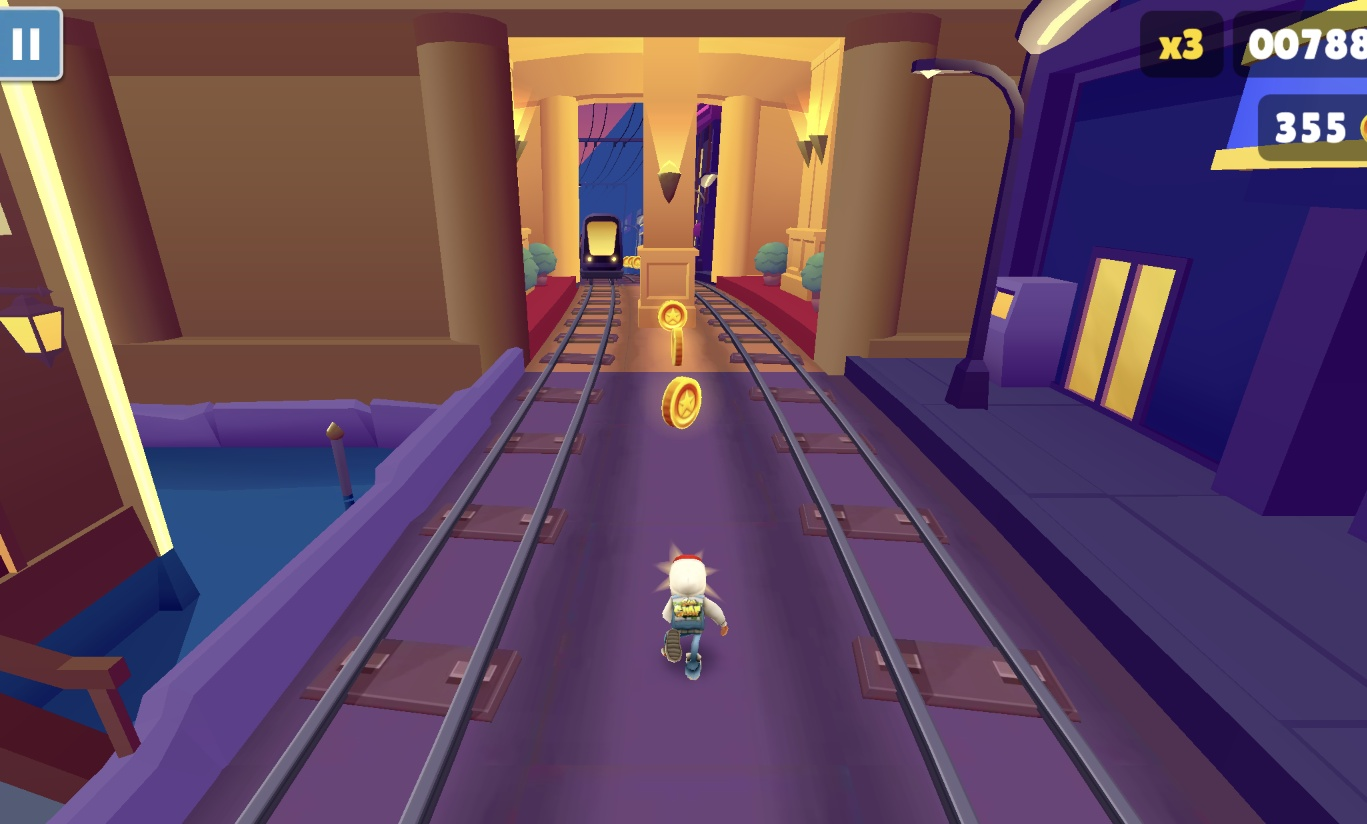pillar: (638, 35, 701, 327)
train: (576, 212, 625, 285)
